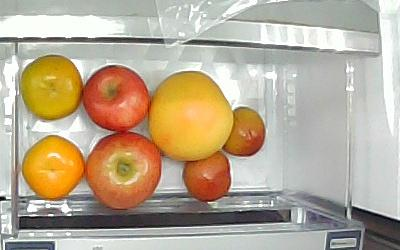apple: (86, 132, 162, 210), (82, 65, 151, 133)
grapefruit: (151, 70, 233, 162)
persimmon: (21, 136, 86, 203), (20, 54, 83, 120)
prune: (182, 152, 232, 202), (221, 106, 266, 157)
